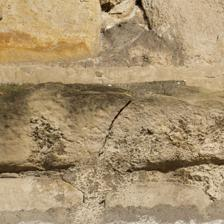Crack: (125, 148, 223, 184), (3, 158, 84, 189), (102, 99, 136, 150)
